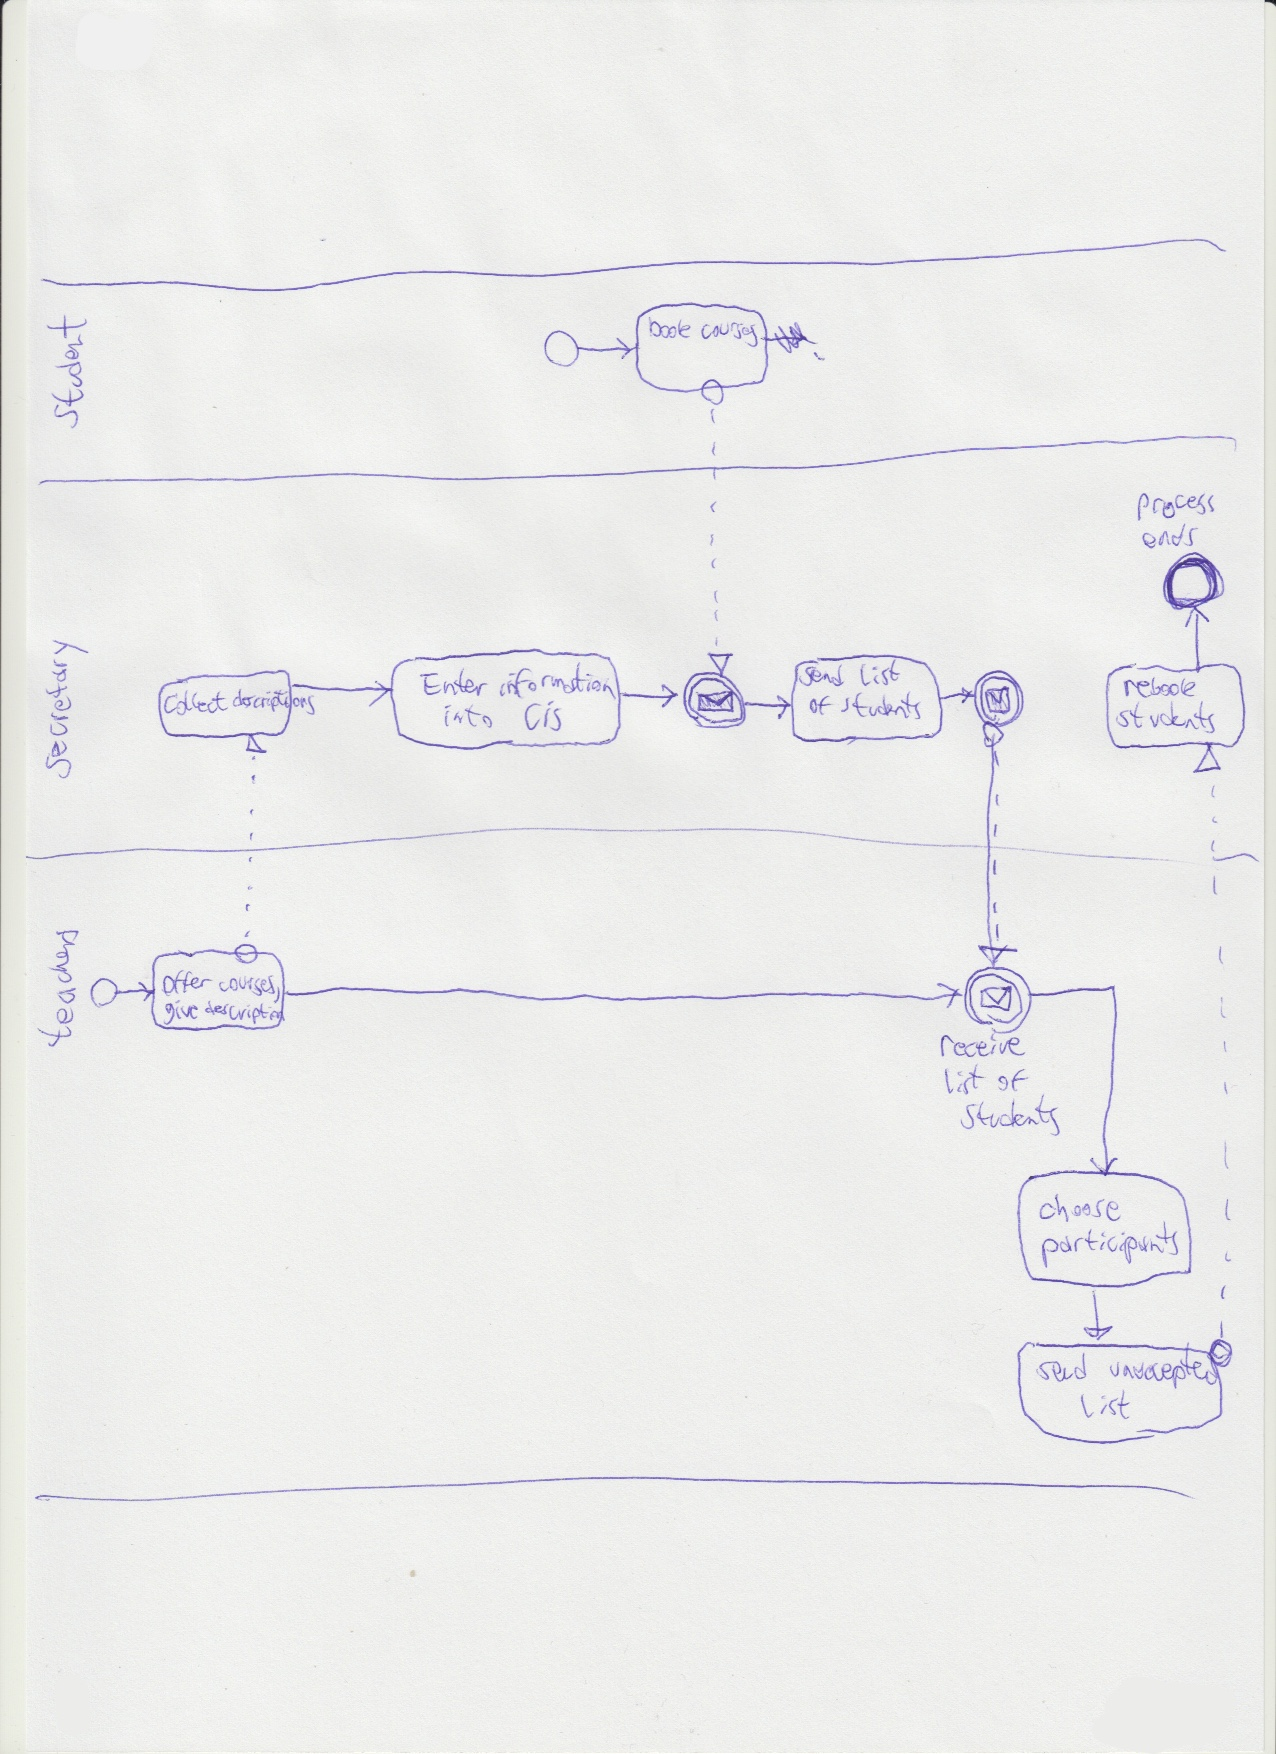CIS: (522, 699, 567, 733)
Collect: (161, 688, 232, 718)
Enter: (421, 668, 493, 700)
Secretary: (43, 635, 90, 778)
Student: (46, 312, 90, 426)
Students: (961, 1094, 1065, 1137)
book: (646, 315, 696, 338)
choose: (1036, 1191, 1124, 1225)
courses: (696, 318, 764, 351), (217, 971, 281, 999)
description: (203, 996, 292, 1019)
descriptions: (227, 684, 320, 713)
ends: (1138, 524, 1202, 552)
give: (161, 998, 203, 1026)
information: (497, 660, 619, 701)
into: (438, 703, 497, 733)
list: (1076, 1388, 1133, 1421), (941, 1063, 989, 1095), (856, 661, 904, 689)
of: (995, 1066, 1029, 1094), (806, 693, 831, 719)
offer: (158, 969, 214, 998)
participants: (1036, 1219, 1183, 1273)
process: (1134, 489, 1219, 522)
rebook: (1120, 678, 1201, 701)
receive: (937, 1031, 1025, 1062)
send: (1035, 1351, 1094, 1385), (799, 662, 848, 688)
students: (1116, 704, 1222, 734), (837, 690, 925, 722)
teachers: (33, 928, 83, 1049)
unaccepted: (1108, 1351, 1222, 1389)
